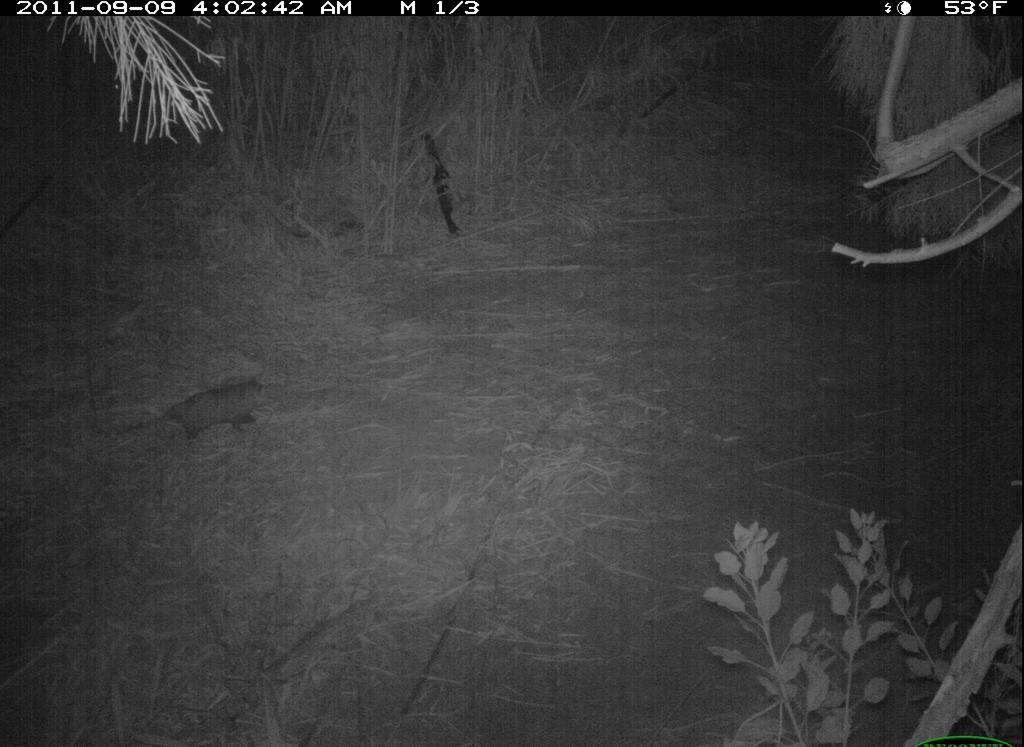opossum: (118, 373, 287, 451)
